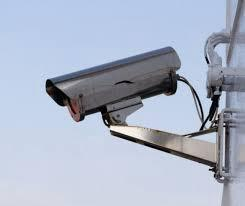Speed-Camera: (40, 43, 185, 126)
